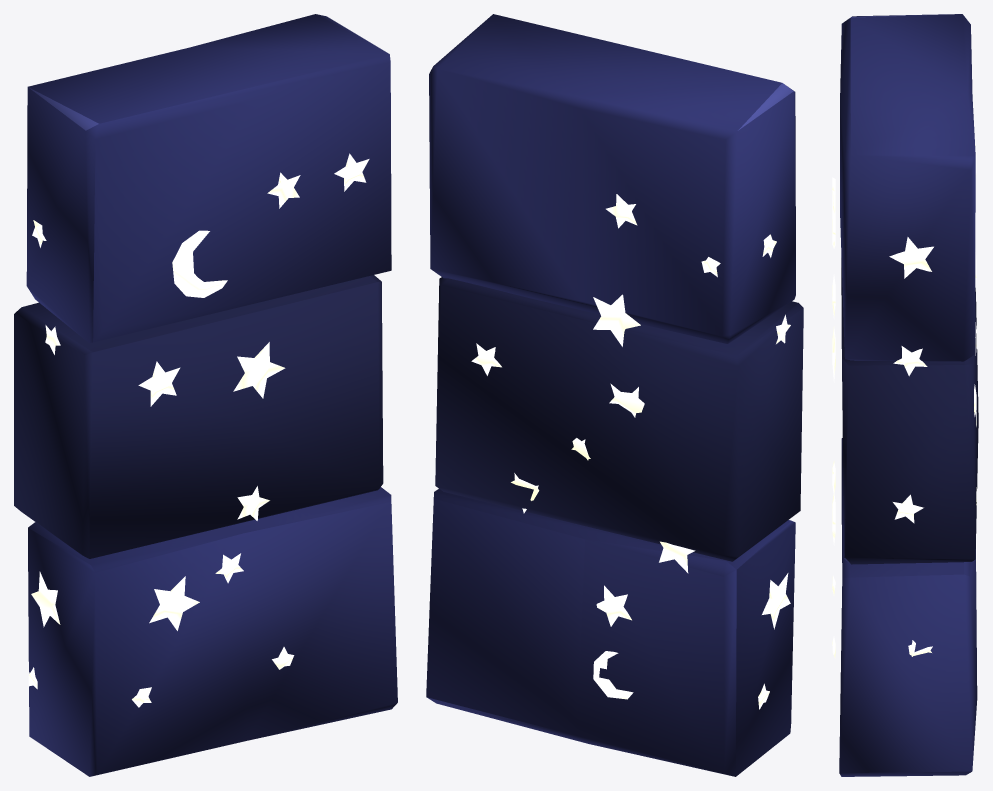
Rendered from den_night_chimney_lod1.glb.
3 renders of one model, left to right at view 1: azimuth 30°, elevation 25°; view 2: azimuth 150°, elevation 25°; view 3: azimuth 270°, elevation 25°, orthographic. The views are drawn at different scales.
Visible parts, largest first — view 1: den_night_chimney.001; view 2: den_night_chimney.001; view 3: den_night_chimney.001.
Boxes of the visible parts, <box> form: den_night_chimney.001: <box>14,14,397,776</box>; den_night_chimney.001: <box>426,14,803,776</box>; den_night_chimney.001: <box>832,14,978,776</box>.
Bounding box in the file's own units: 6.13 × 11.95 × 2.53.
